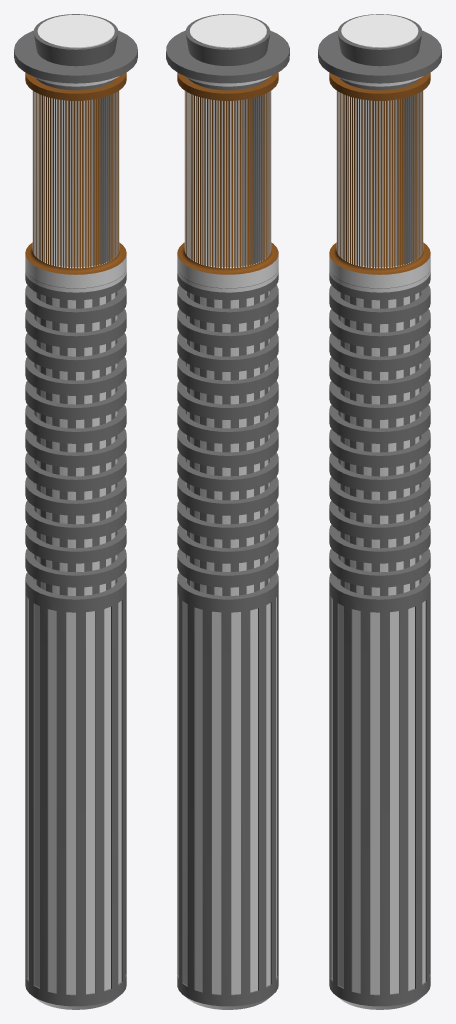
Rendered from fb4e28a4-04ce-407b-a05a-28dbcedfd01b.glb.
3 renders of one model, left to right at view 1: azimuth 90°, elevation 25°; view 2: azimuth 150°, elevation 25°; view 3: azimuth 270°, elevation 25°, orthographic.
Visible parts, largest first — view 1: Cylinder, Cylinder.001; view 2: Cylinder, Cylinder.001; view 3: Cylinder, Cylinder.001.
Part boxes in pixels (bbox=[...]): Cylinder: bbox=[14, 14, 137, 1009]; Cylinder.001: bbox=[37, 15, 114, 48]; Cylinder: bbox=[166, 14, 289, 1009]; Cylinder.001: bbox=[190, 14, 266, 48]; Cylinder: bbox=[318, 14, 441, 1009]; Cylinder.001: bbox=[341, 14, 418, 47].
Size of the model in its own units: 0.6382 by 5.47 by 0.6382.
